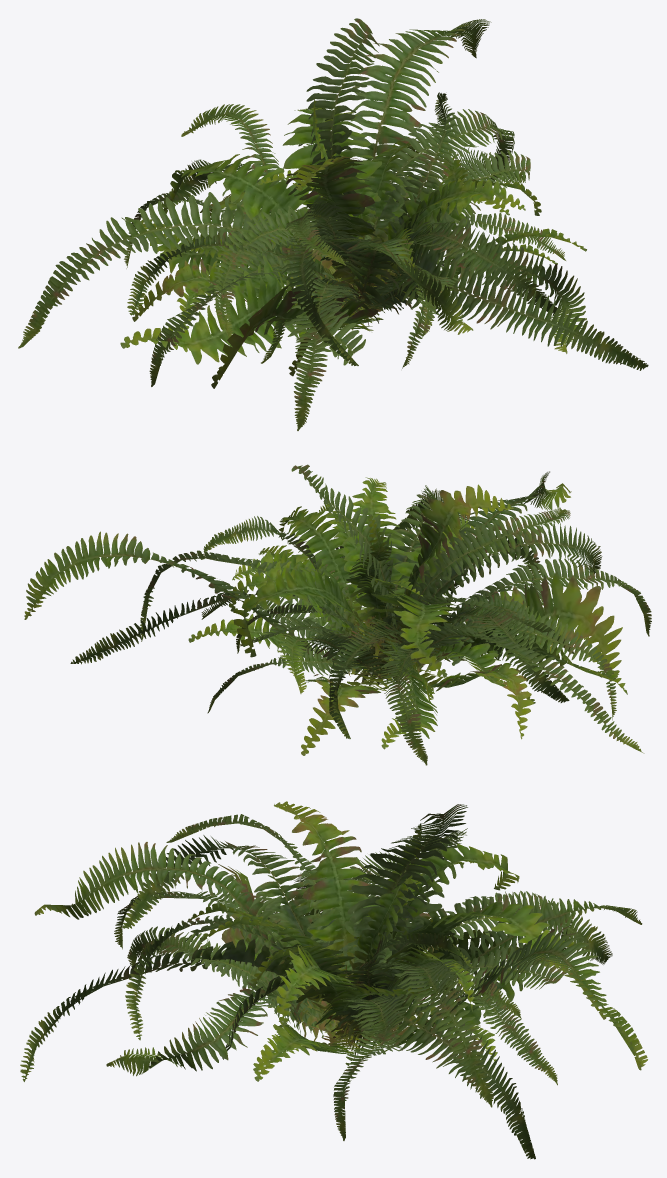
The model's file is scanned-fern.glb.
The picture shows the model from 3 angles, top to bottom: view 1: azimuth 30°, elevation 25°; view 2: azimuth 150°, elevation 25°; view 3: azimuth 270°, elevation 25°; orthographic projection. The views are drawn at different scales.
Parts seen in each view (by area): view 1: fern_02_b, fern_02_c, fern_02_a, fern_02_d; view 2: fern_02_b, fern_02_c, fern_02_d, fern_02_a; view 3: fern_02_b, fern_02_c, fern_02_a, fern_02_d.
Boxes of the visible parts, <box> form: fern_02_b: <box>18,18,648,430</box>; fern_02_c: <box>120,96,586,376</box>; fern_02_a: <box>177,92,544,337</box>; fern_02_d: <box>141,143,557,363</box>; fern_02_b: <box>24,464,651,755</box>; fern_02_c: <box>70,485,627,765</box>; fern_02_d: <box>232,517,588,749</box>; fern_02_a: <box>203,516,535,713</box>; fern_02_b: <box>20,801,647,1140</box>; fern_02_c: <box>106,814,642,1159</box>; fern_02_a: <box>139,873,563,1085</box>; fern_02_d: <box>187,867,593,1071</box>.
Bounding box in the file's own units: 0.9897 × 0.4277 × 0.8937.
Materials: 1 (1 with a texture image).
